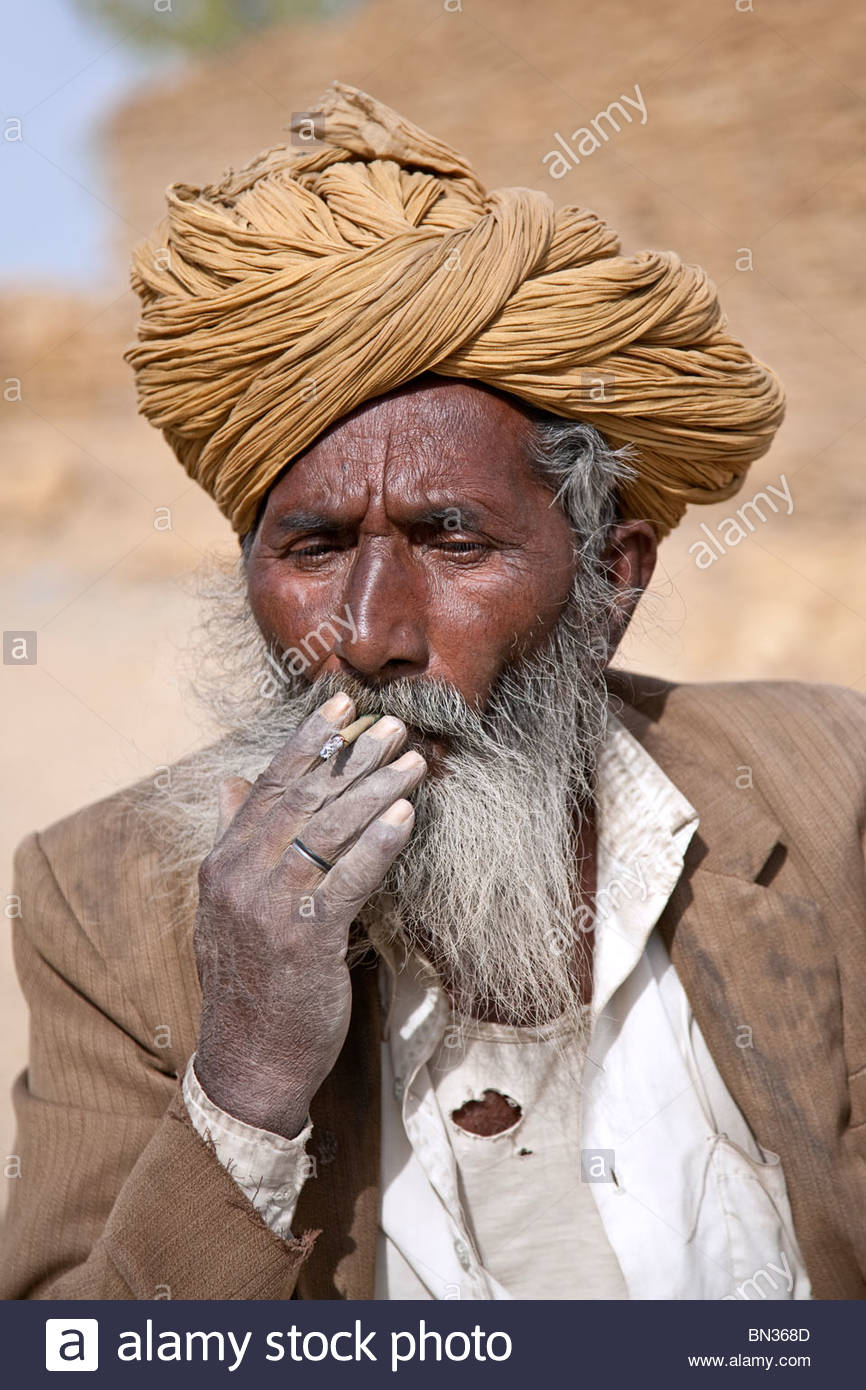cigarette: (318, 707, 393, 756)
